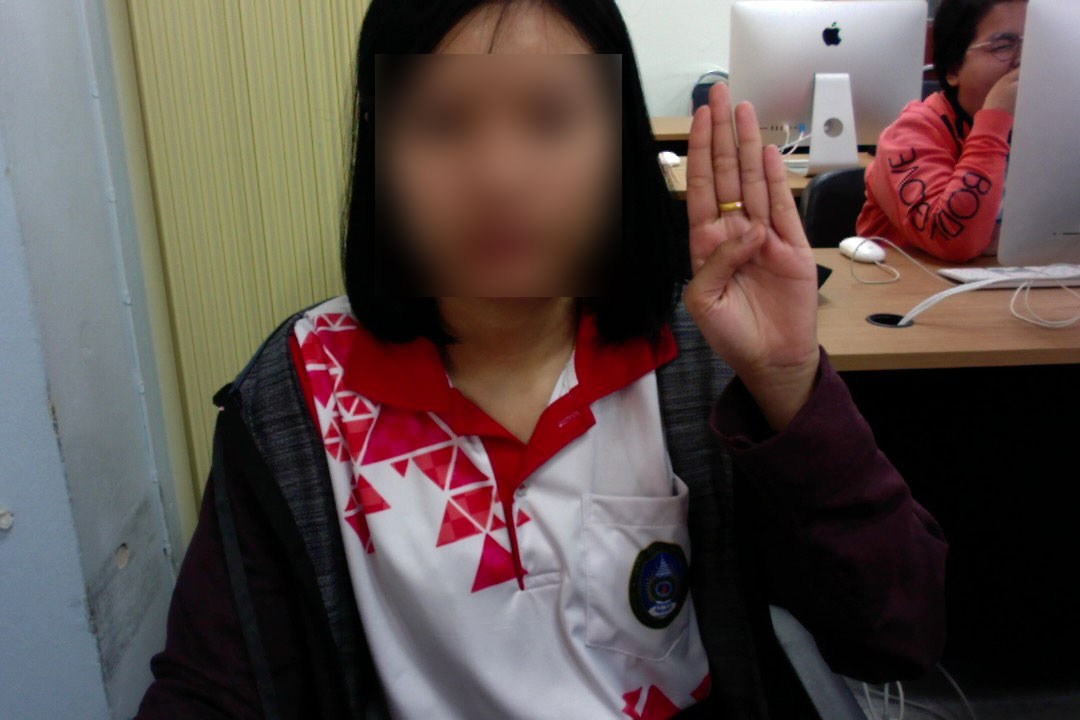bor: (666, 77, 825, 387)
